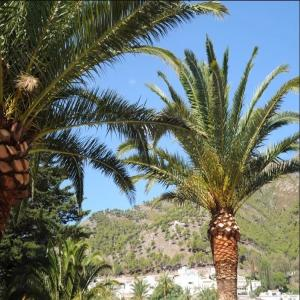palm tree: (117, 32, 300, 299)
